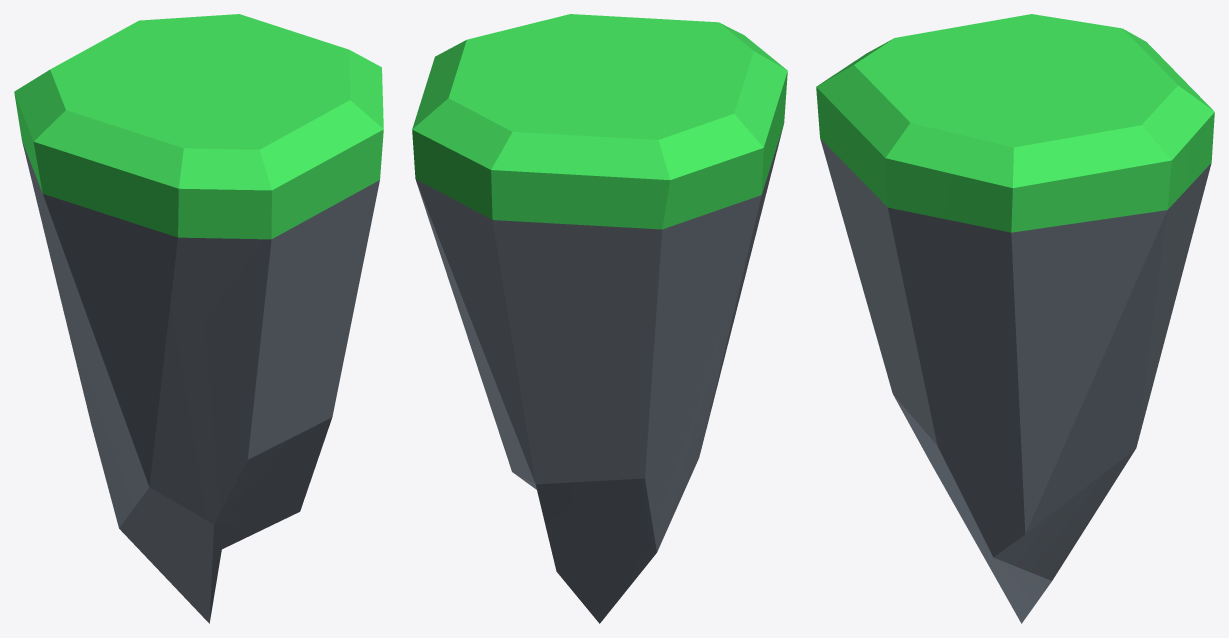
Rendered from testmodelsisland_Island_004__1_.fbx.
3 renders of one model, left to right at view 1: azimuth 30°, elevation 25°; view 2: azimuth 150°, elevation 25°; view 3: azimuth 270°, elevation 25°, orthographic.
Visible parts, largest first — view 1: island_Island_004__1_; view 2: island_Island_004__1_; view 3: island_Island_004__1_.
Boxes of the visible parts, <box> form: island_Island_004__1_: <box>14,14,383,623</box>; island_Island_004__1_: <box>412,14,787,623</box>; island_Island_004__1_: <box>816,14,1214,623</box>.
Bounding box in the file's own units: 682 × 1052 × 700.
